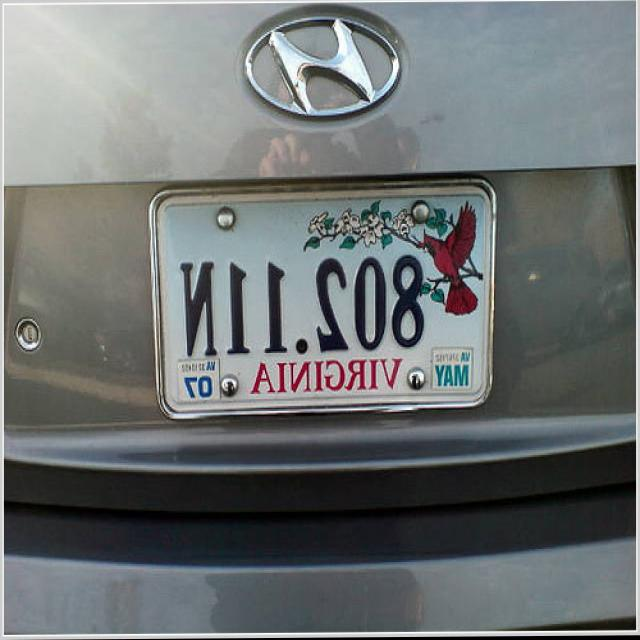licence: (164, 190, 498, 405)
